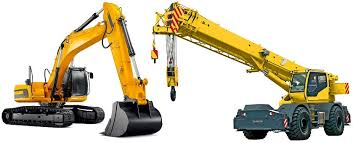excavator: (4, 3, 164, 141)
